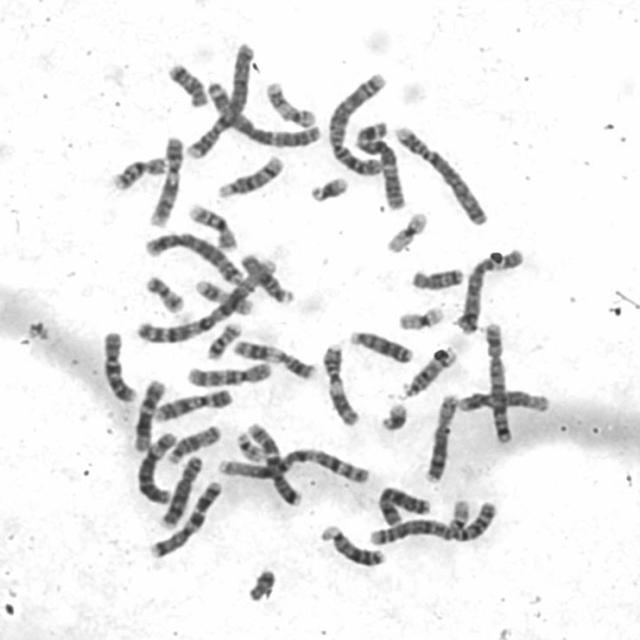A1: (137, 256, 278, 344), (218, 449, 368, 483)
A2: (328, 72, 390, 176), (367, 501, 498, 546)
A3: (206, 80, 322, 148), (355, 122, 409, 210)
B4: (395, 123, 489, 226), (186, 40, 253, 159)
B5: (144, 233, 244, 286), (484, 324, 516, 446)
C10: (102, 330, 137, 402), (182, 362, 271, 388)
C11: (231, 337, 317, 381), (321, 342, 360, 427)
C12: (133, 379, 166, 453), (459, 391, 549, 415)
C6: (456, 249, 525, 334), (136, 432, 180, 504)
C7: (148, 480, 223, 559), (245, 422, 303, 506)
C8: (161, 456, 203, 530), (426, 394, 458, 484)
C9: (148, 137, 185, 228), (155, 390, 234, 422)
D13: (318, 523, 387, 568), (350, 327, 413, 364)
D14: (217, 153, 284, 200), (404, 346, 457, 398)
D15: (239, 253, 295, 304), (166, 424, 220, 465)
E16: (188, 204, 238, 252), (110, 158, 168, 192)
E17: (264, 79, 316, 129), (195, 278, 252, 316)
E18: (168, 63, 208, 107), (411, 267, 463, 293)
F19: (386, 209, 428, 255), (397, 304, 444, 332)
F20: (146, 274, 184, 314), (206, 324, 244, 361)
G21: (308, 176, 352, 204), (381, 403, 409, 434)
G22: (234, 430, 264, 462), (449, 498, 469, 530)
X: (376, 484, 431, 527)
Y: (248, 569, 276, 603)
